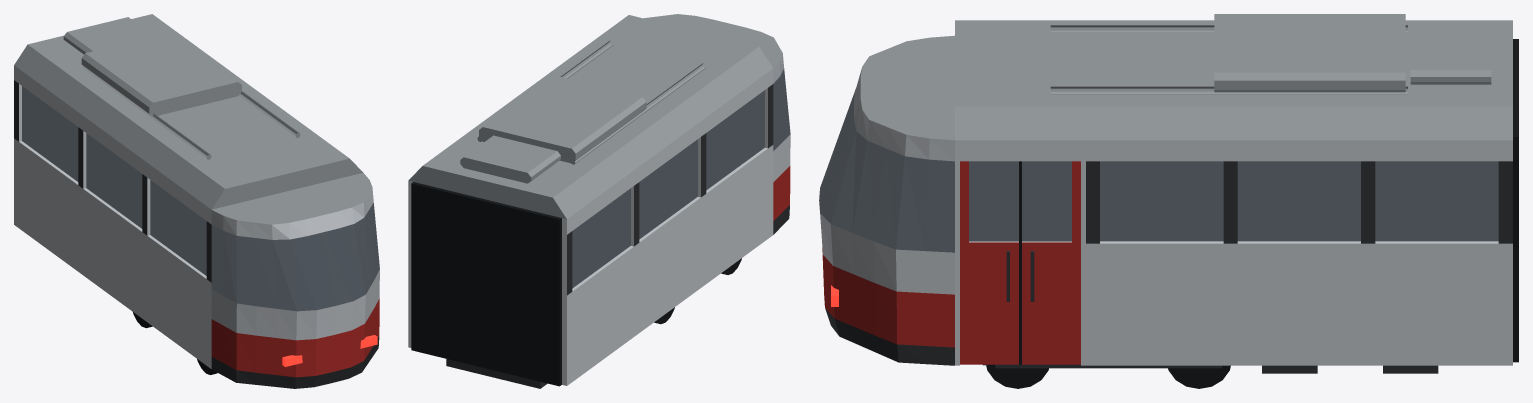
3 renders of one model, left to right at view 1: azimuth 30°, elevation 25°; view 2: azimuth 150°, elevation 25°; view 3: azimuth 270°, elevation 25°, orthographic. The views are drawn at different scales.
Visible parts, largest first — view 1: 14t-e; view 2: 14t-e; view 3: 14t-e.
Part boxes in pixels (left/top/right/bottom): 14t-e: left=14, top=14, right=379, bottom=388; 14t-e: left=408, top=14, right=790, bottom=388; 14t-e: left=819, top=14, right=1518, bottom=388.
Bounding box in the file's own units: 2.46 × 3.34 × 6.95.
